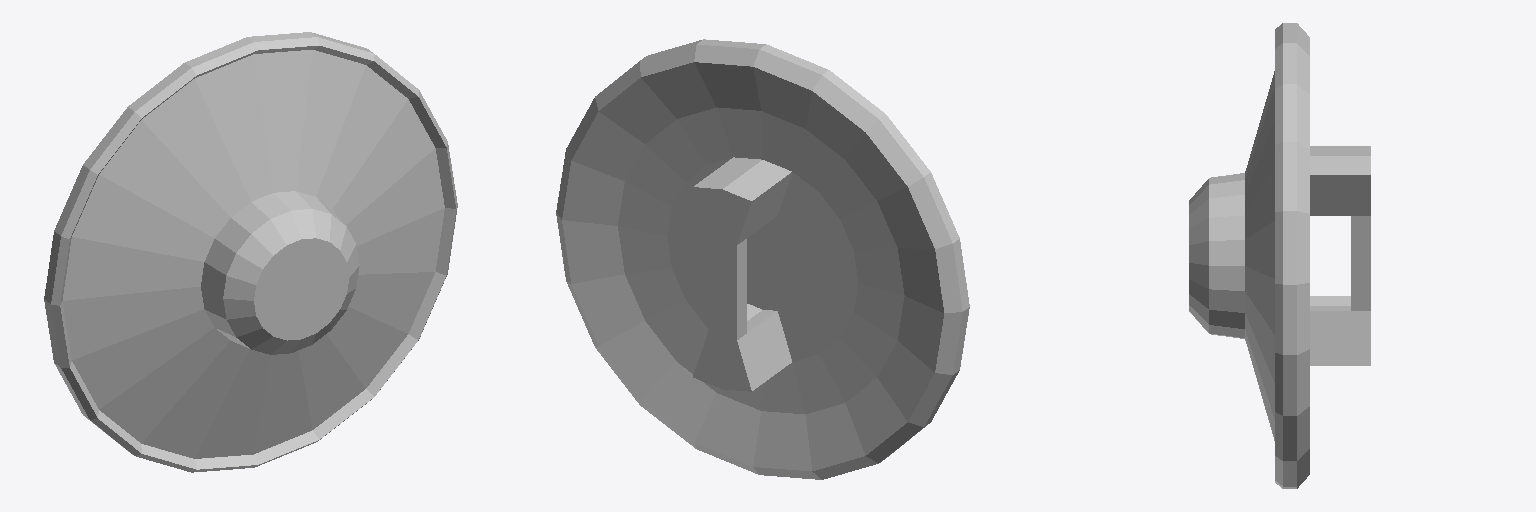
Rendered from shieldBaseMesh.obj.
The picture shows the model from 3 angles: view 1: azimuth 30°, elevation 25°; view 2: azimuth 150°, elevation 25°; view 3: azimuth 270°, elevation 25°; orthographic projection.
Visible parts, largest first — view 1: pCylinder1; view 2: pCylinder1; view 3: pCylinder1.
Boxes of the visible parts, box(x1,y1,x2,y2) form: pCylinder1: box(44, 32, 457, 472); pCylinder1: box(556, 39, 969, 479); pCylinder1: box(1189, 23, 1370, 488).
Bounding box in the file's own units: 186 × 186 × 72.35.